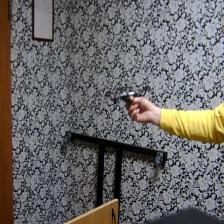drone: (104, 76, 154, 109)
